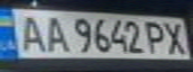2: (124, 18, 145, 54)
4: (109, 17, 127, 54)
6: (90, 16, 112, 54)
9: (69, 15, 97, 53)
A: (12, 11, 48, 53), (39, 12, 69, 53)
P: (142, 18, 169, 55)
X: (160, 19, 190, 55)
